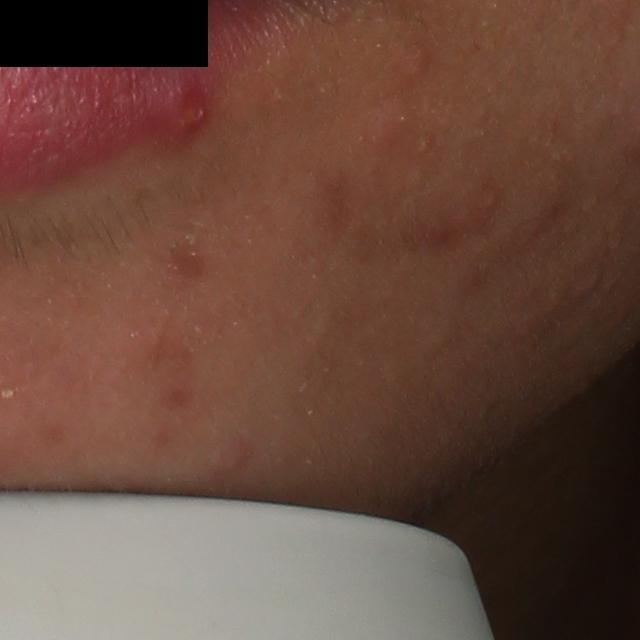papule: (160, 84, 208, 144), (397, 47, 425, 79)
